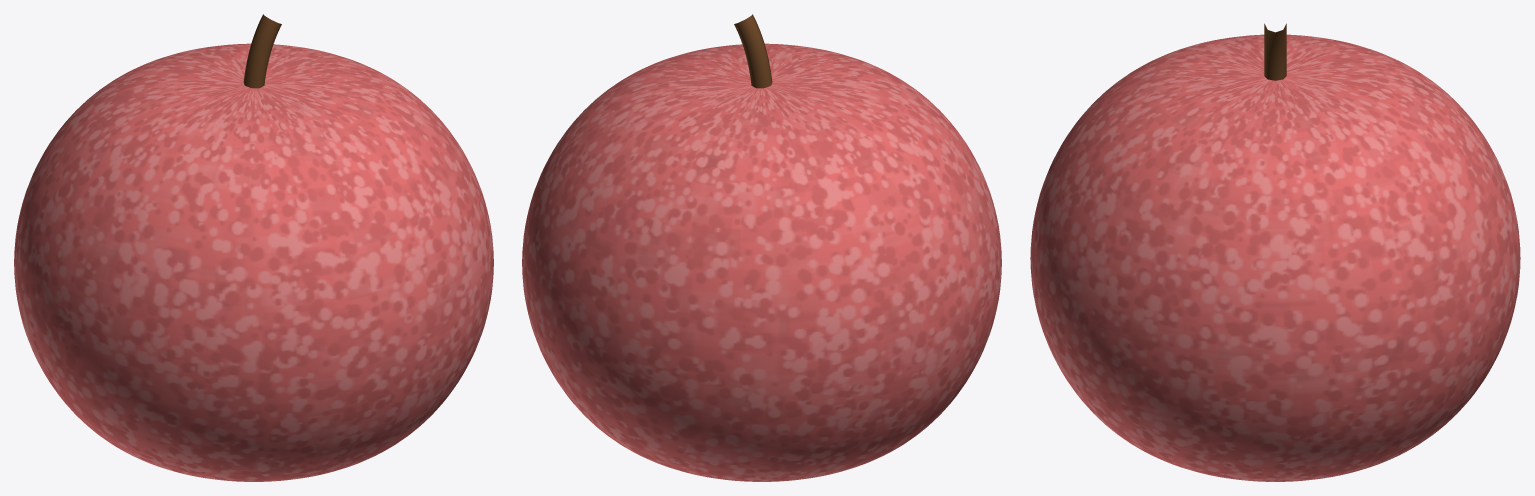
The model's file is lychee.glb.
3 renders of one model, left to right at view 1: azimuth 30°, elevation 25°; view 2: azimuth 150°, elevation 25°; view 3: azimuth 270°, elevation 25°, orthographic. The views are drawn at different scales.
Size of the model in its own units: 0.17 by 0.1652 by 0.17.
Materials: 2 (1 with a texture image).
